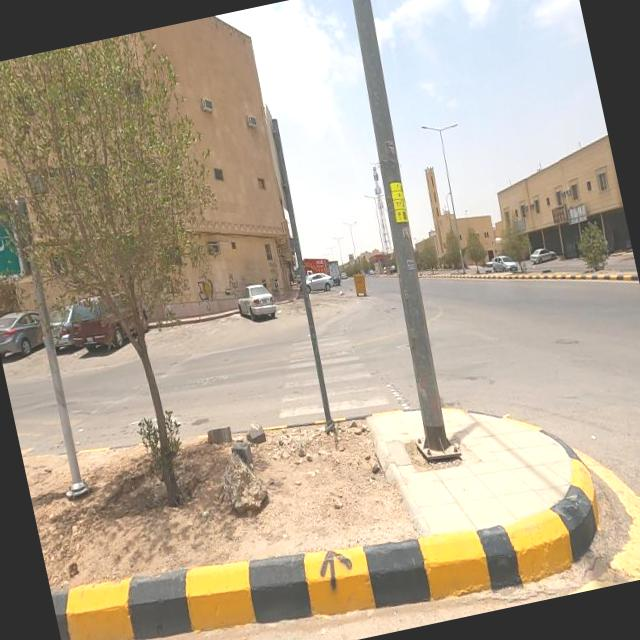debris: (324, 266, 362, 318)
